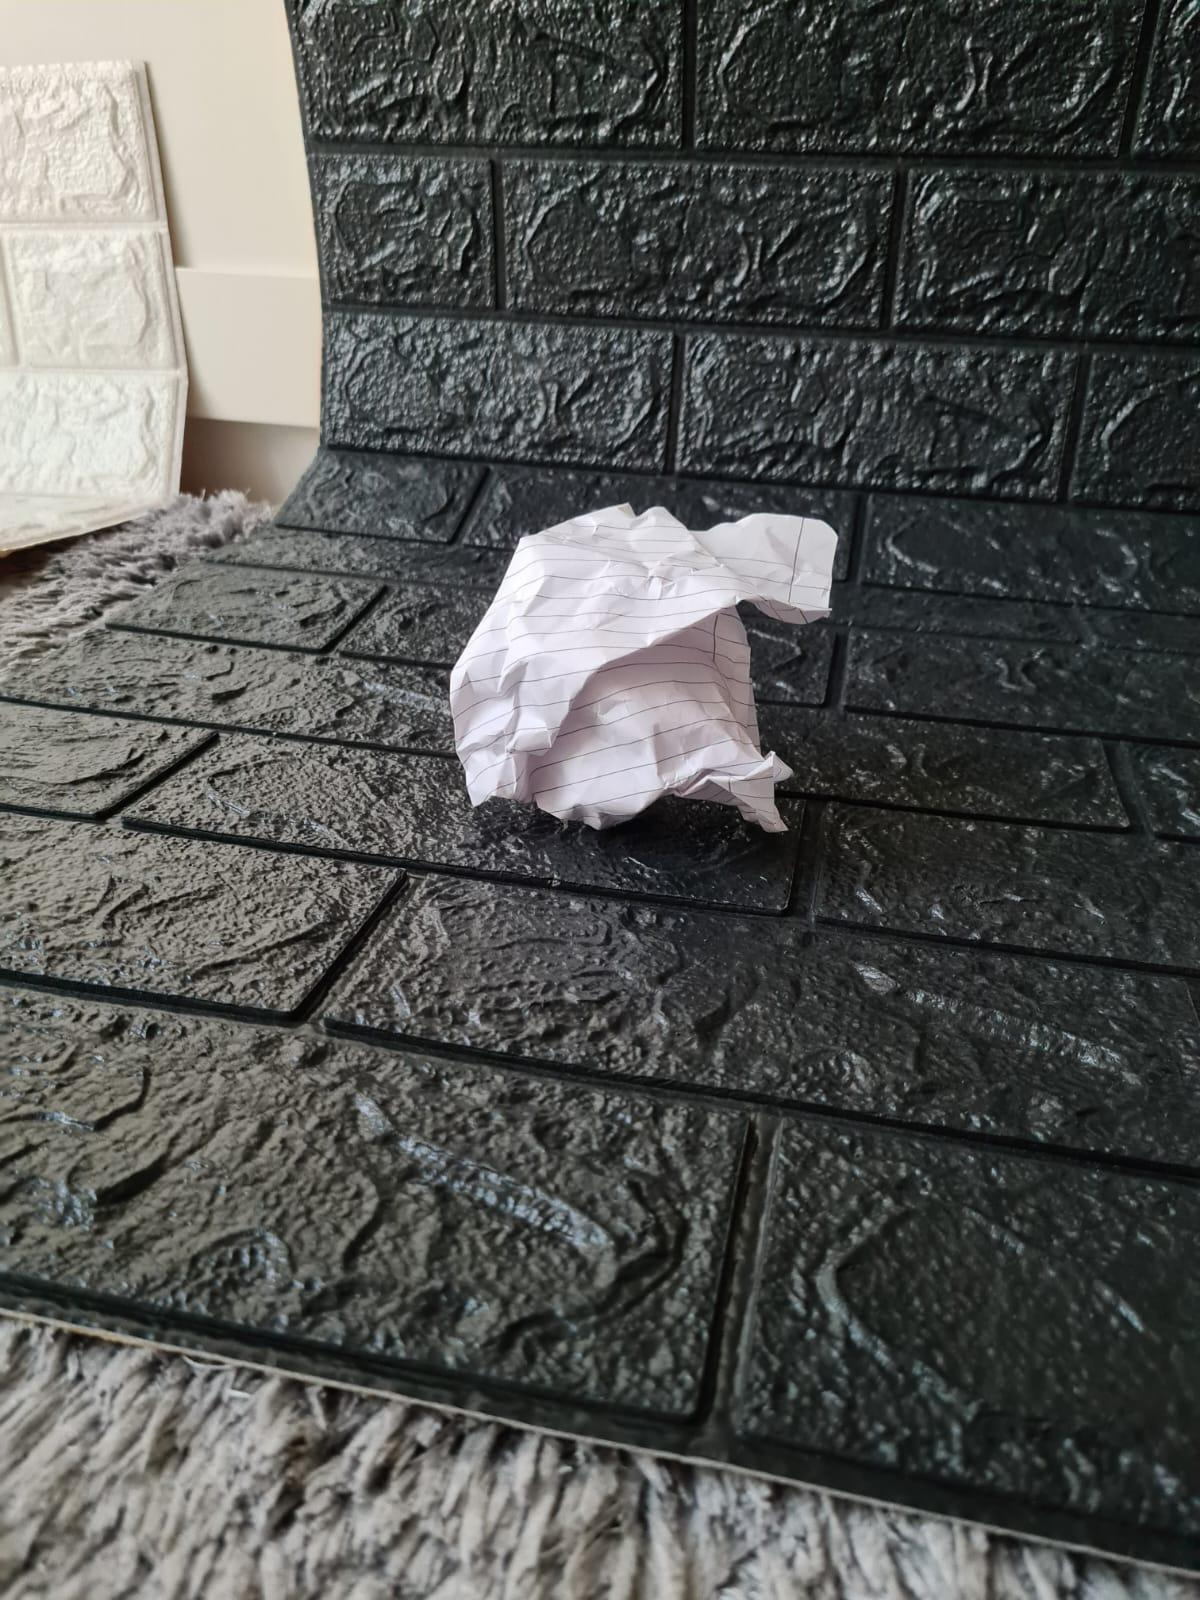Paper: (445, 501, 850, 844)
